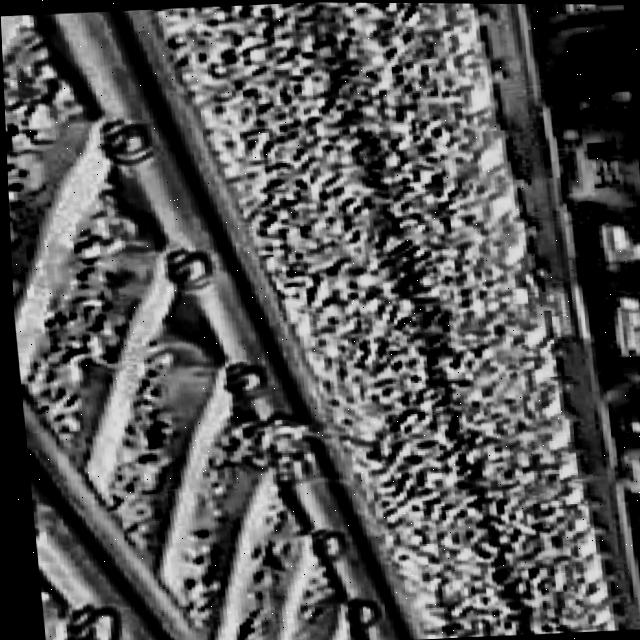Gerbong: (388, 2, 640, 394), (554, 335, 640, 632)
